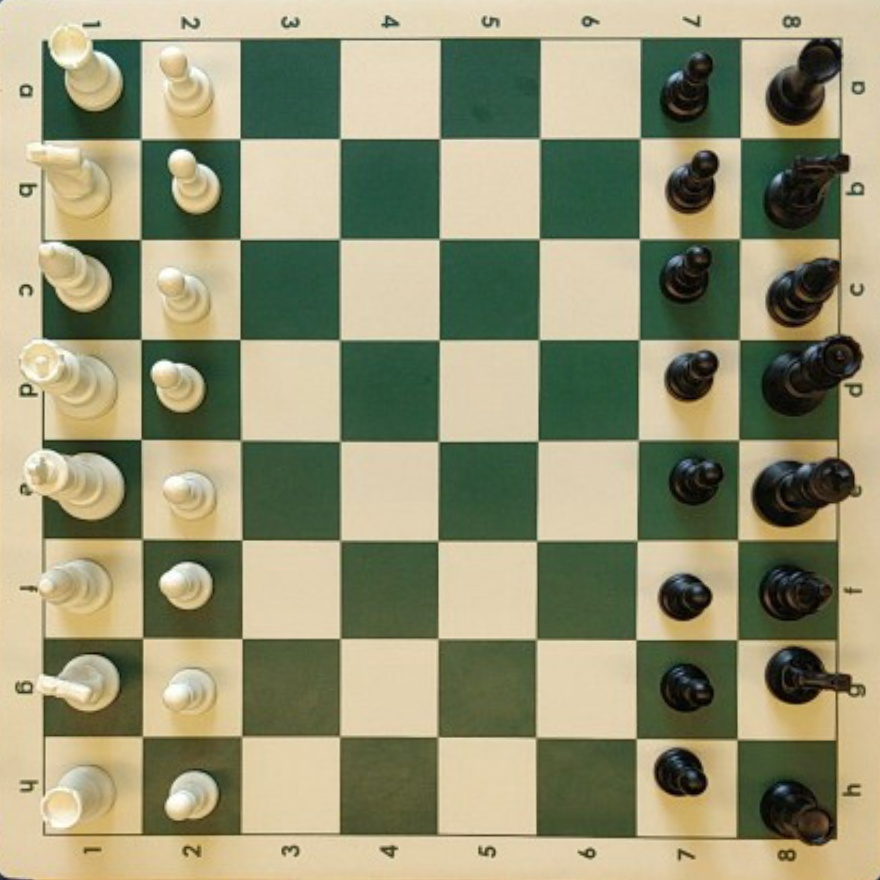black-bishop: (767, 257, 840, 325), (760, 564, 833, 620)
black-king: (753, 457, 858, 526)
black-knight: (765, 154, 849, 228), (766, 647, 866, 704)
black-pawn: (654, 357, 726, 423), (654, 657, 726, 723), (662, 51, 714, 120), (667, 150, 719, 211), (661, 246, 712, 301), (654, 748, 708, 797), (670, 456, 724, 505), (659, 573, 712, 620)
black-queen: (763, 336, 863, 414)
black-rook: (767, 38, 841, 124), (760, 779, 835, 844)
white-bishop: (39, 242, 112, 312), (36, 559, 111, 613)
white-king: (21, 449, 125, 520)
white-knight: (25, 142, 111, 217), (54, 657, 126, 723)
white-pawn: (160, 50, 213, 117), (167, 148, 220, 215), (150, 358, 205, 412), (156, 267, 209, 322), (164, 770, 219, 822), (158, 560, 212, 609), (161, 470, 215, 518), (163, 668, 215, 713)
white-queen: (19, 341, 117, 417)
white-rook: (48, 27, 123, 112), (41, 764, 115, 832)
